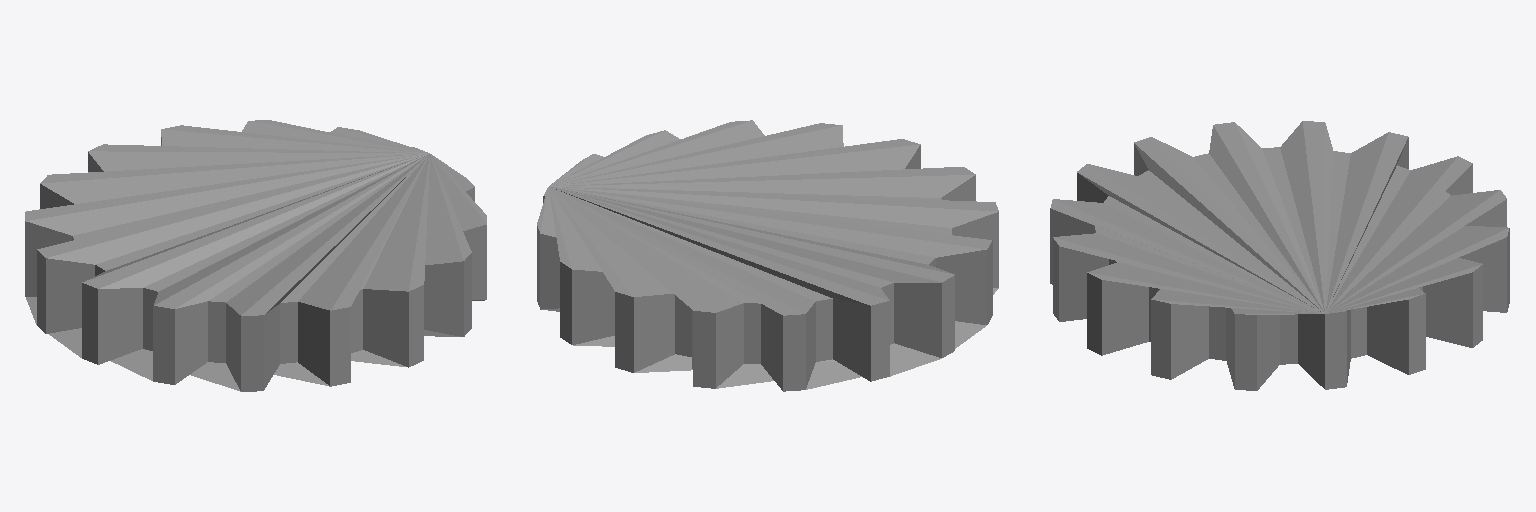
File: Zahnrad.obj
3 renders of one model, left to right at view 1: azimuth 30°, elevation 25°; view 2: azimuth 150°, elevation 25°; view 3: azimuth 270°, elevation 25°, orthographic.
Parts seen in each view (by area): view 1: Cylinder; view 2: Cylinder; view 3: Cylinder.
Part boxes in pixels (x1,y1,x2,y2): Cylinder: (25,120,486,391); Cylinder: (537,120,998,391); Cylinder: (1050,121,1509,390).
Bounding box in the file's own units: 8.62 × 1.57 × 8.62.